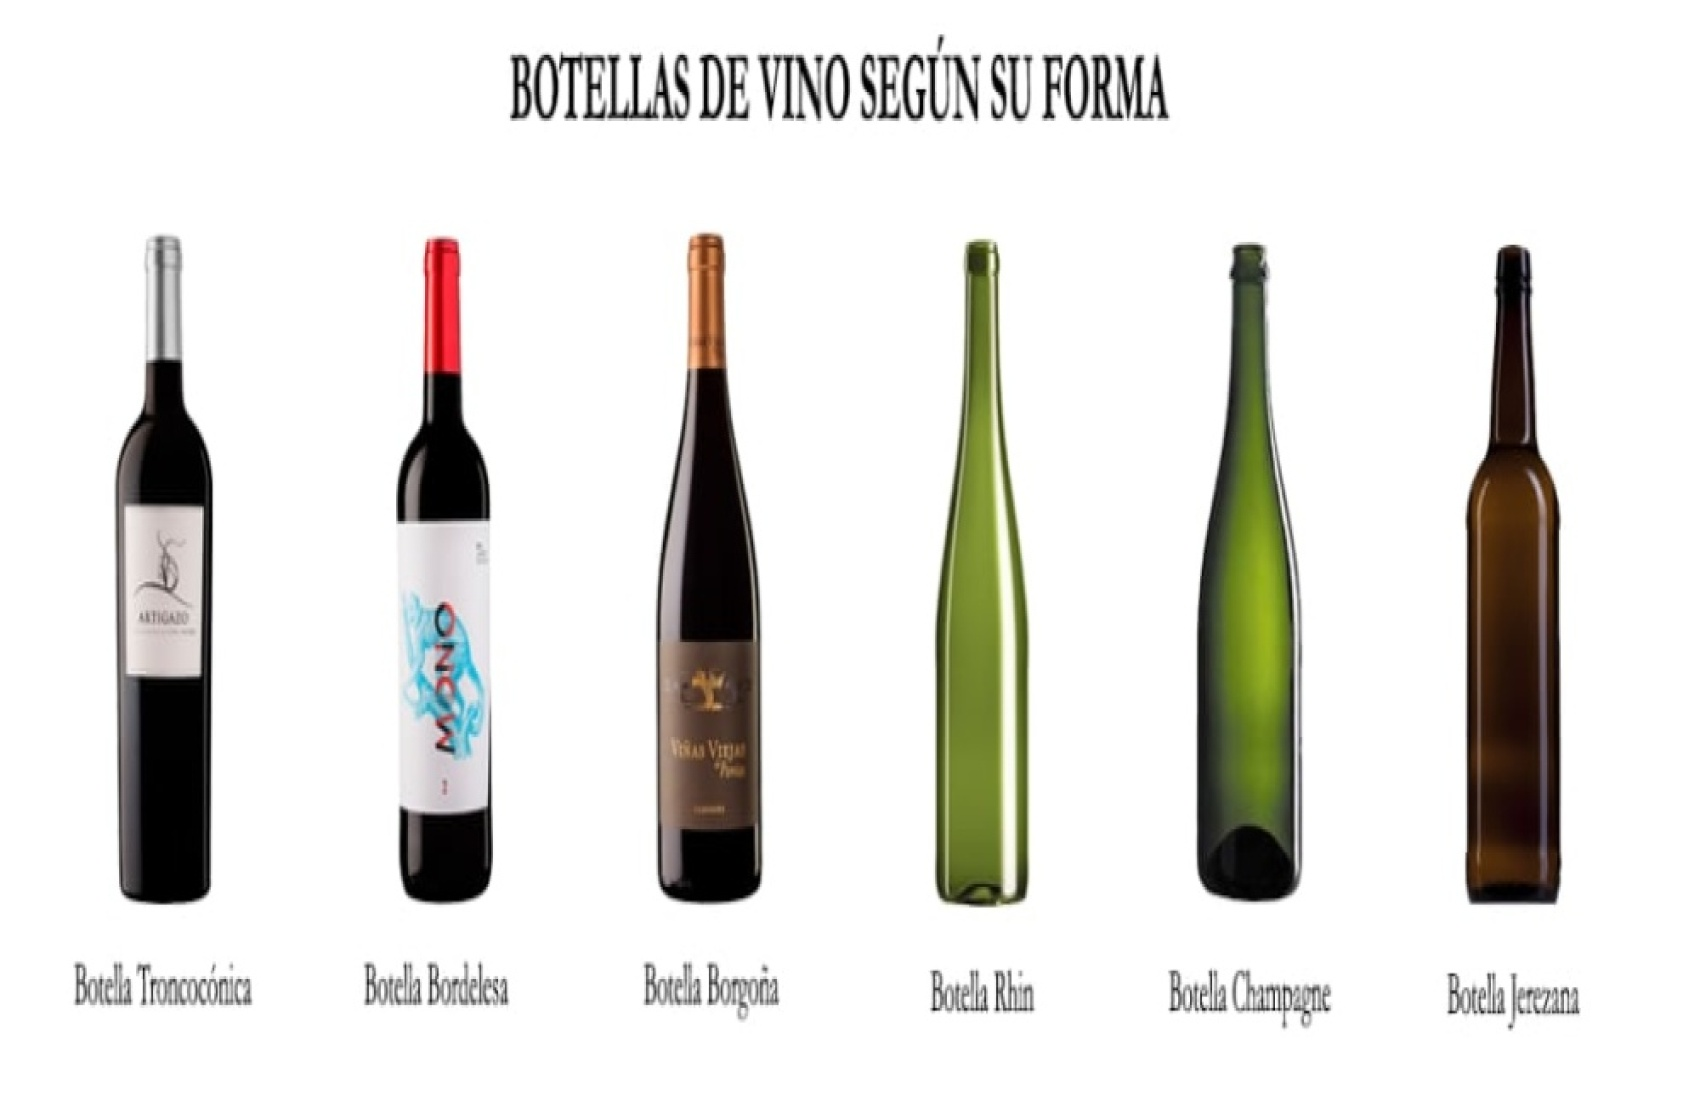wine: (398, 227, 501, 909), (112, 227, 213, 909), (667, 222, 768, 904), (1207, 213, 1308, 896), (1461, 202, 1562, 884), (933, 219, 1035, 901)
